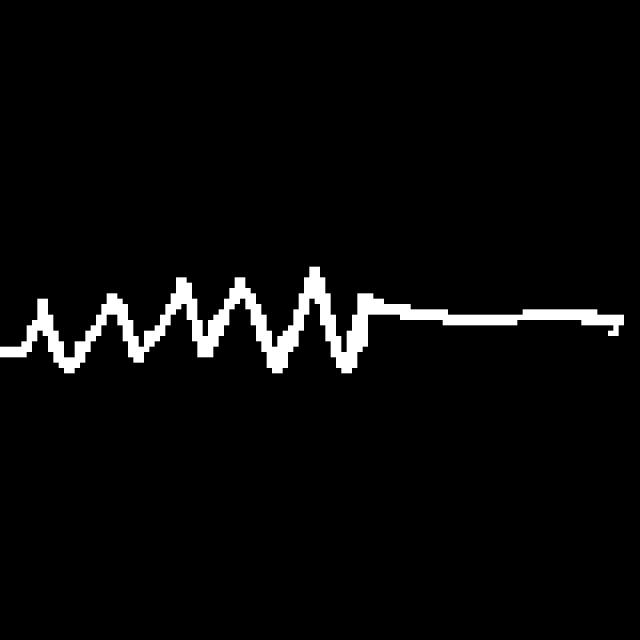resistor: (11, 265, 398, 414)
